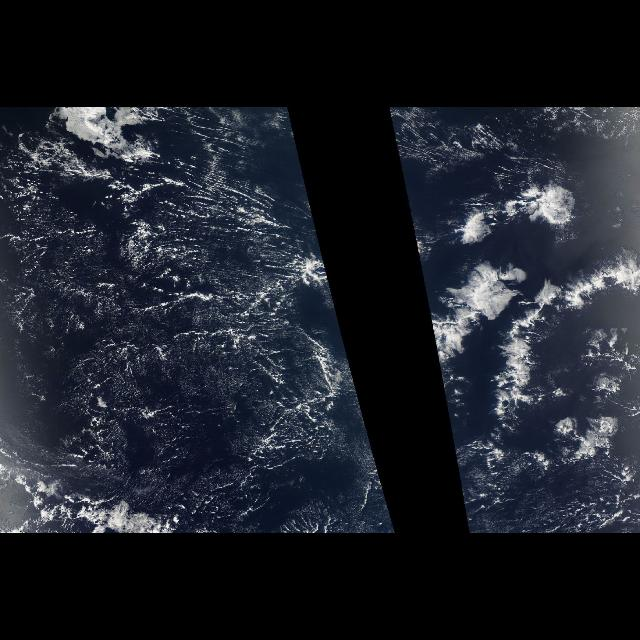Fish: (430, 176, 640, 482)
Gravel: (38, 180, 306, 502)
Sugar: (2, 202, 312, 384)
